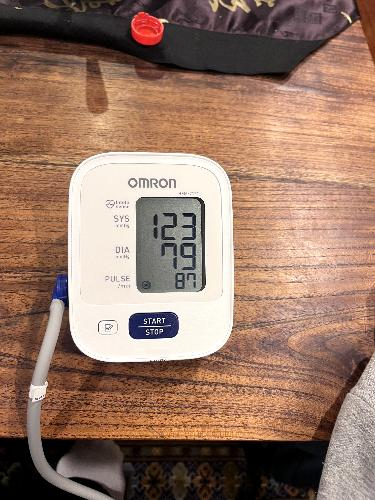bpm: (135, 196, 206, 295)
